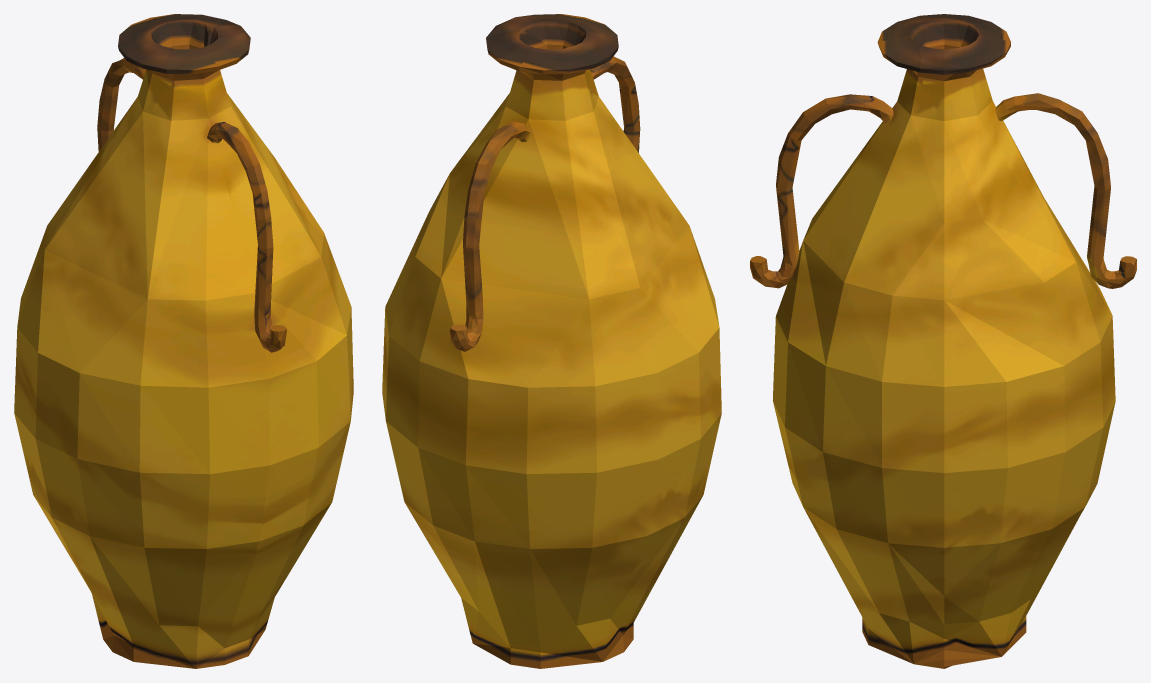
File: vase2.glb
3 views of the same model, side by side, from view 1: azimuth 30°, elevation 25°; view 2: azimuth 150°, elevation 25°; view 3: azimuth 270°, elevation 25° (orthographic).
Visible parts, largest first — view 1: vase2; view 2: vase2; view 3: vase2.
Part boxes in pixels (x1,y1,x2,y2): vase2: (14, 14, 353, 668); vase2: (382, 14, 721, 668); vase2: (750, 14, 1136, 668).
Bounding box in the file's own units: 140 × 272 × 159.
Materials: 1 (1 with a texture image).
